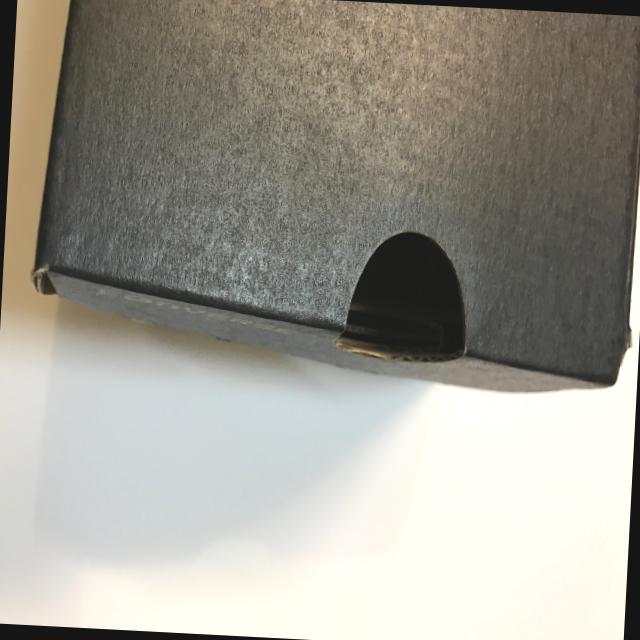Cardboard: (15, 0, 640, 440)
